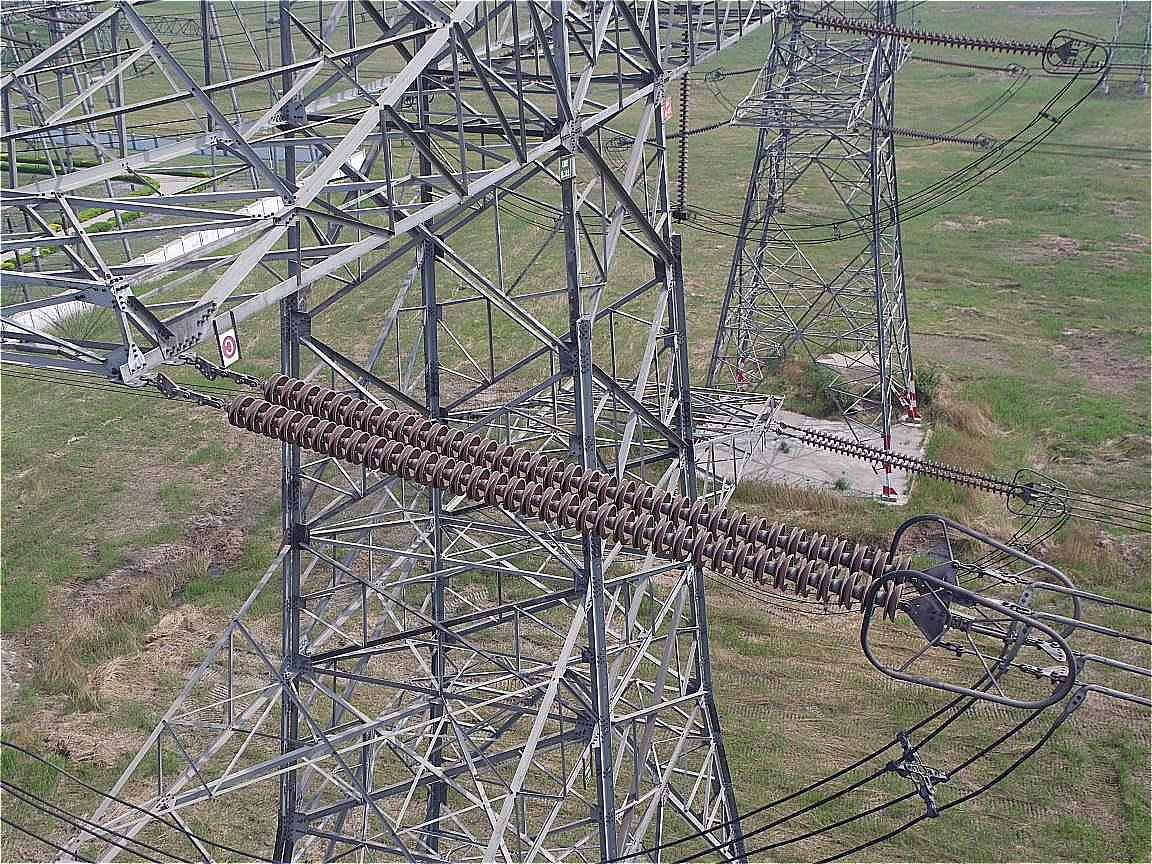insultor1: (803, 430, 1021, 499), (814, 12, 1055, 59)
insultor2: (229, 373, 914, 619)
